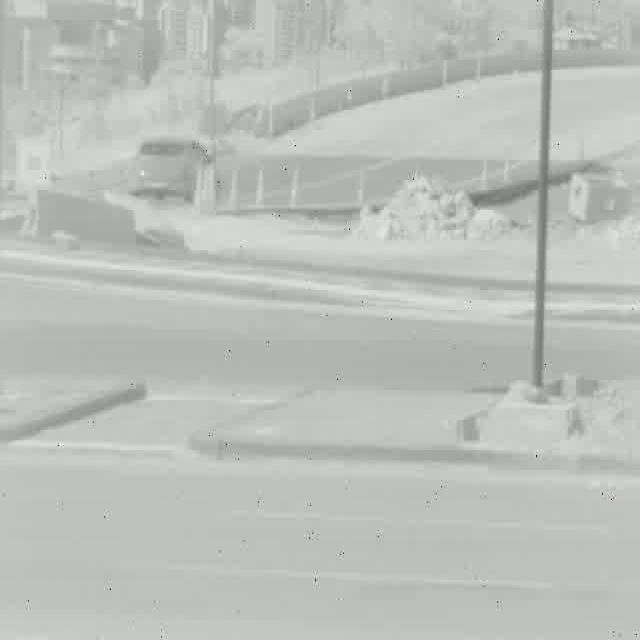Car: (129, 138, 218, 201)
